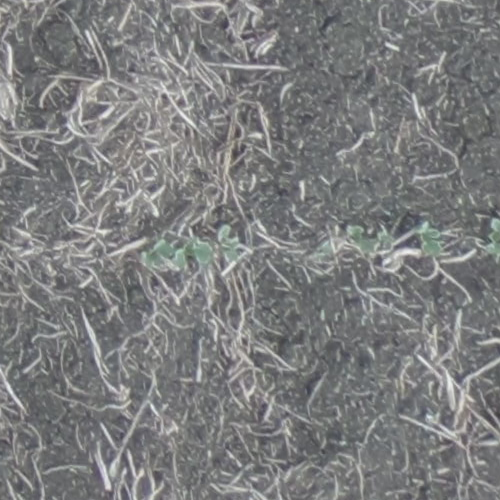isolated: (219, 221, 250, 263), (176, 235, 212, 269), (414, 223, 446, 261), (139, 240, 175, 268), (347, 225, 378, 257), (486, 220, 499, 258)
